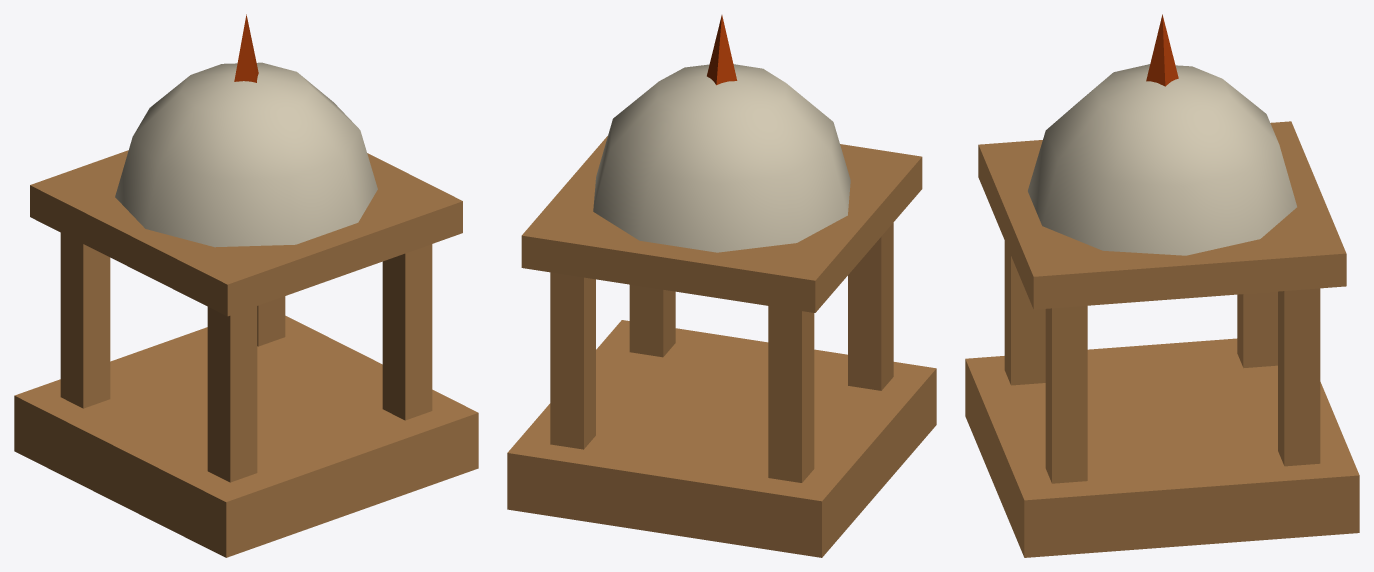
File: MODULE_STEPWELL_FULL_CHHATRI.fbx
3 views of the same model, side by side, from view 1: azimuth 30°, elevation 25°; view 2: azimuth 150°, elevation 25°; view 3: azimuth 270°, elevation 25° (orthographic). The views are drawn at different scales.
Visible parts, largest first — view 1: MODULE_STEPWELL_FULL_CHHATRI_DECOR__export; view 2: MODULE_STEPWELL_FULL_CHHATRI_DECOR__export; view 3: MODULE_STEPWELL_FULL_CHHATRI_DECOR__export.
Part boxes in pixels (x1,y1,x2,y2): MODULE_STEPWELL_FULL_CHHATRI_DECOR__export: (14,14,478,557); MODULE_STEPWELL_FULL_CHHATRI_DECOR__export: (507,15,936,557); MODULE_STEPWELL_FULL_CHHATRI_DECOR__export: (965,14,1359,557).
Size of what is drawn, in the model's own units: 17.38 by 22.4 by 17.38.
